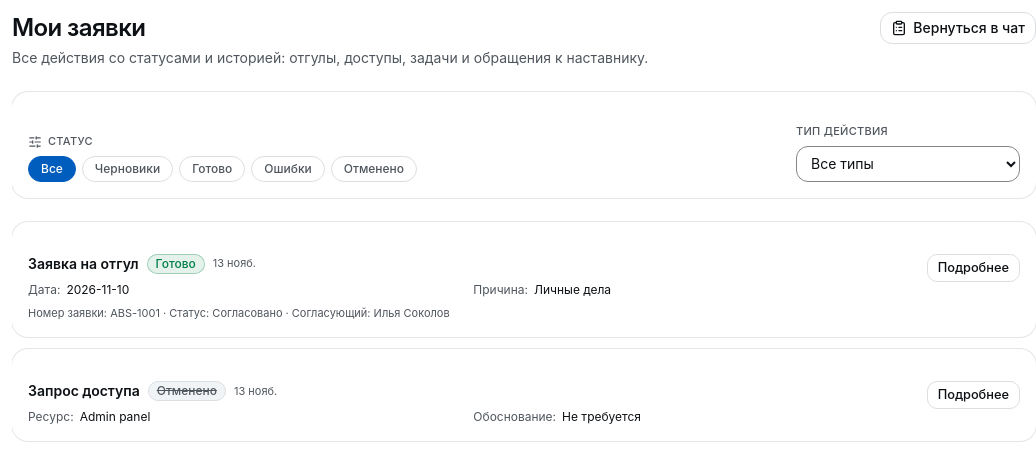
Scenario: страница заявок › фильтрует по типу действия и сбрасывает фильтры
Expected: the heading "Заявка на отгул" is shown, [28,254,139,274]
Step 1. Select "Запрос доступа" in the dropdown labelled "Тип действия" → [908, 164], box [796,146,1020,182]
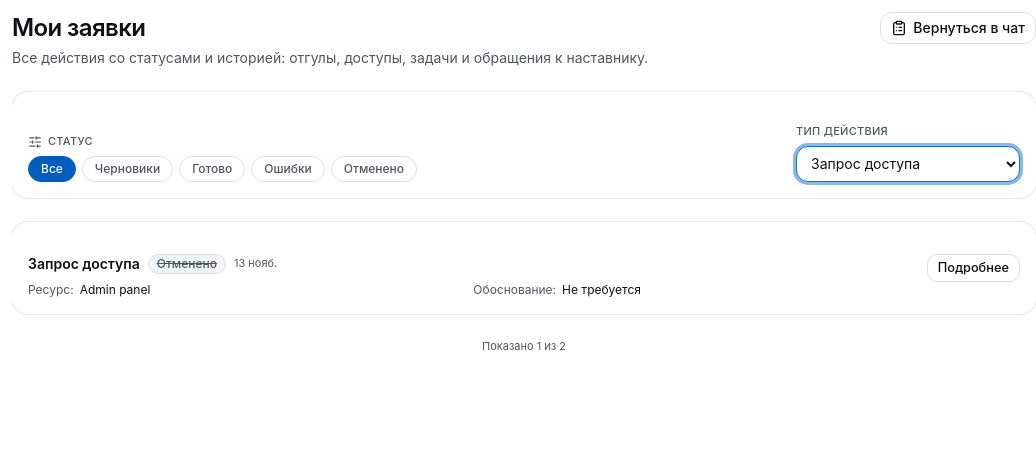
Expected: the heading "Запрос доступа" is shown, [28,254,140,274]
Now the heading "Заявка на отгул" is gone
Step 2. Select "Заявка на отгул" in the dropdown labelled "Тип действия" → [908, 164], box [796,146,1020,182]
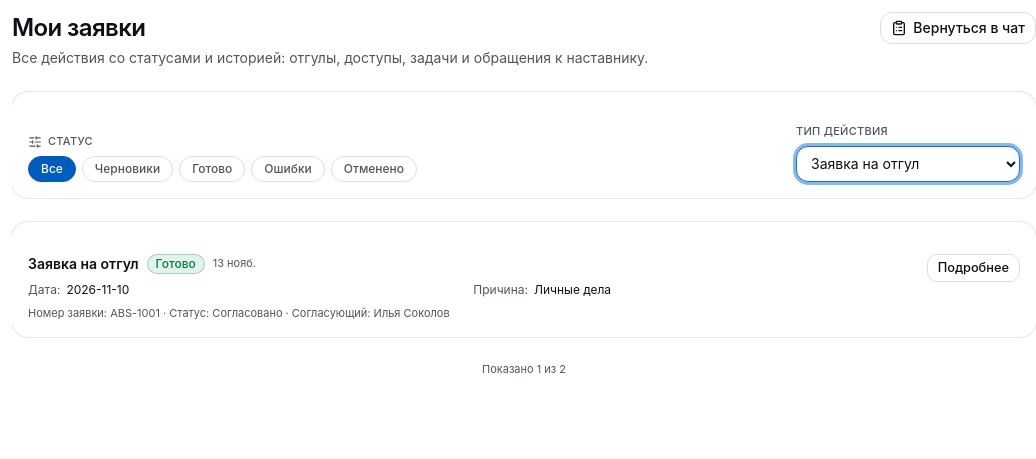
Now the heading "Заявка на отгул" is shown, box [28,254,139,274]
Now the heading "Запрос доступа" is gone
